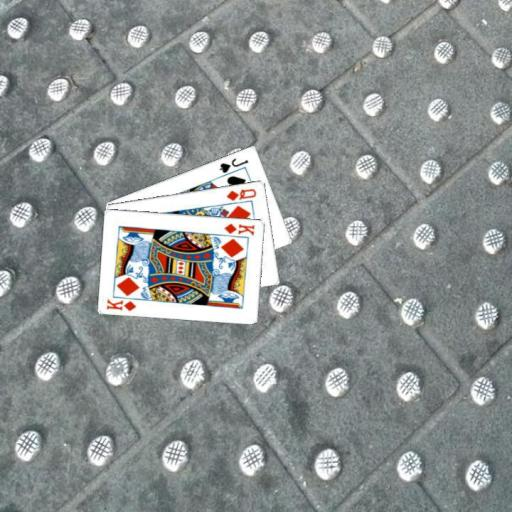JS: (216, 155, 250, 175)
KD: (221, 220, 256, 237), (103, 296, 138, 312)
QD: (223, 185, 258, 202)
